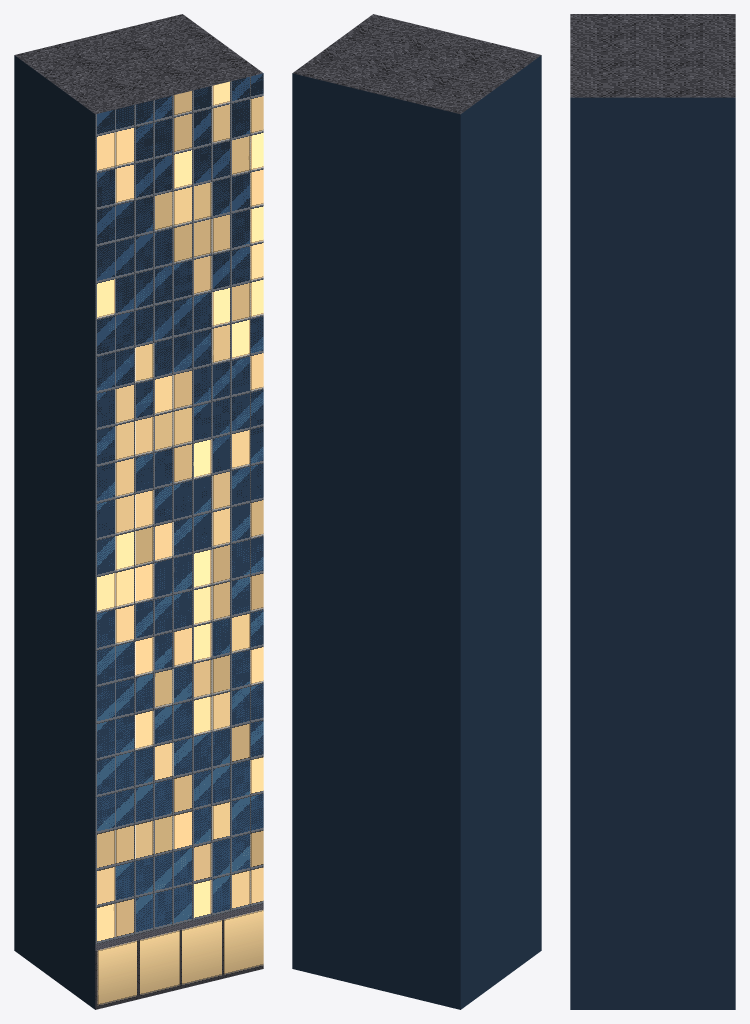
The model's file is Kulisse_14.glb.
3 views of the same model, side by side, from view 1: azimuth 30°, elevation 25°; view 2: azimuth 150°, elevation 25°; view 3: azimuth 270°, elevation 25° (orthographic).
Visible parts, largest first — view 1: Kulisse_14; view 2: Kulisse_14; view 3: Kulisse_14.
Part boxes in pixels (x1,y1,x2,y2): Kulisse_14: (14,14,263,1009); Kulisse_14: (292,14,541,1009); Kulisse_14: (570,14,735,1009).
Size of the model in its own units: 12 by 61 by 10.
Materials: 3 (2 with a texture image).
